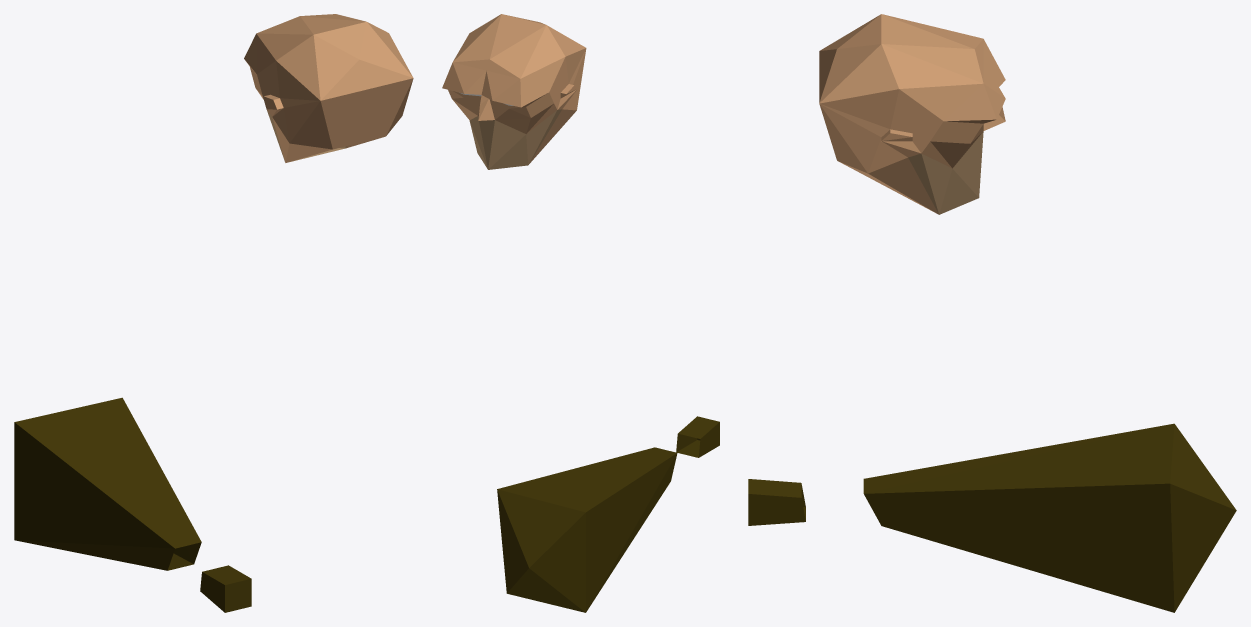
File: npc_world_giant_1.obj
3 renders of one model, left to right at view 1: azimuth 30°, elevation 25°; view 2: azimuth 150°, elevation 25°; view 3: azimuth 270°, elevation 25°, orthographic. The views are drawn at different scales.
Size of the model in its own units: 0.6172 by 1.25 by 0.8594.
